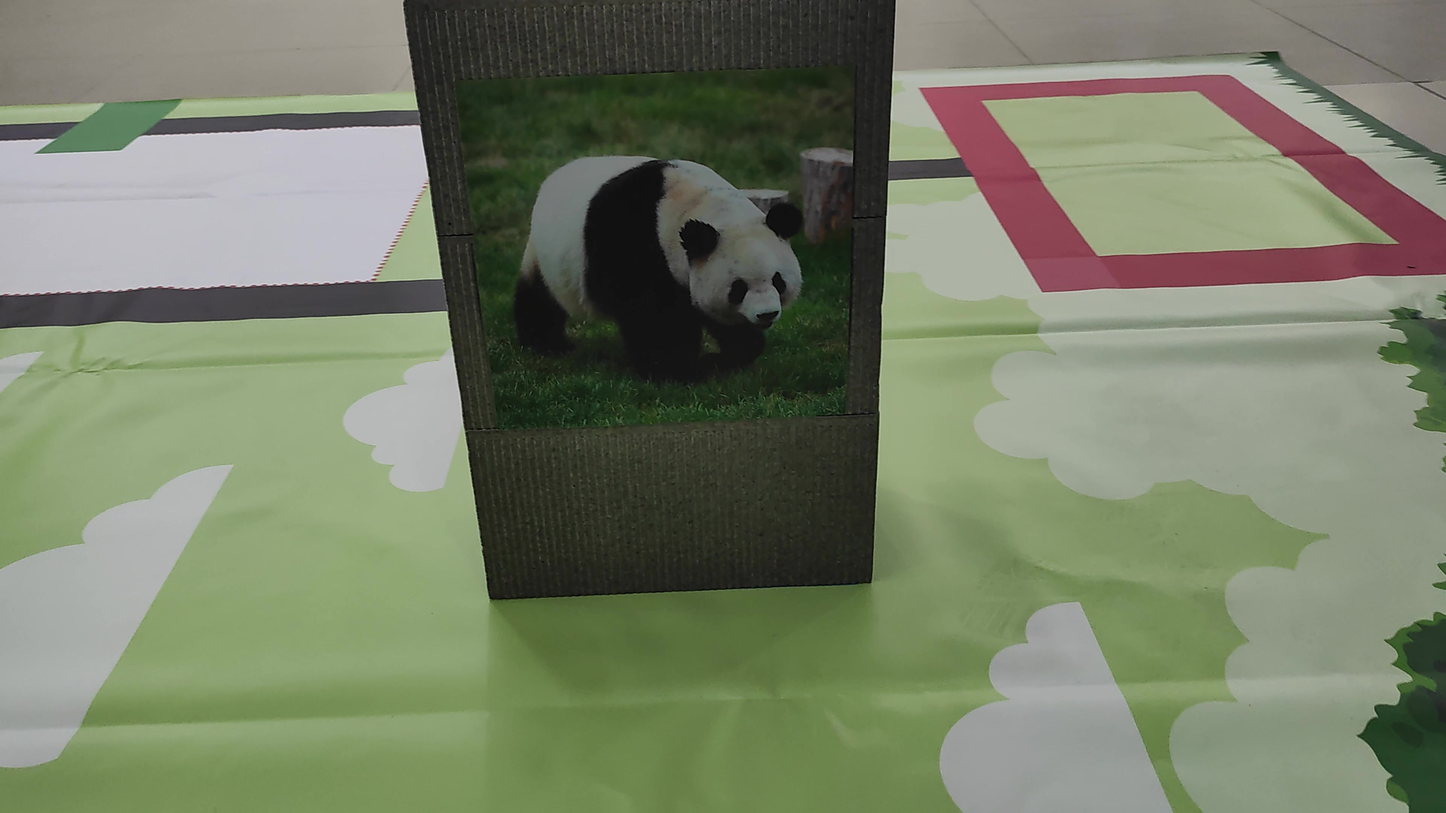panda: (494, 140, 817, 408)
